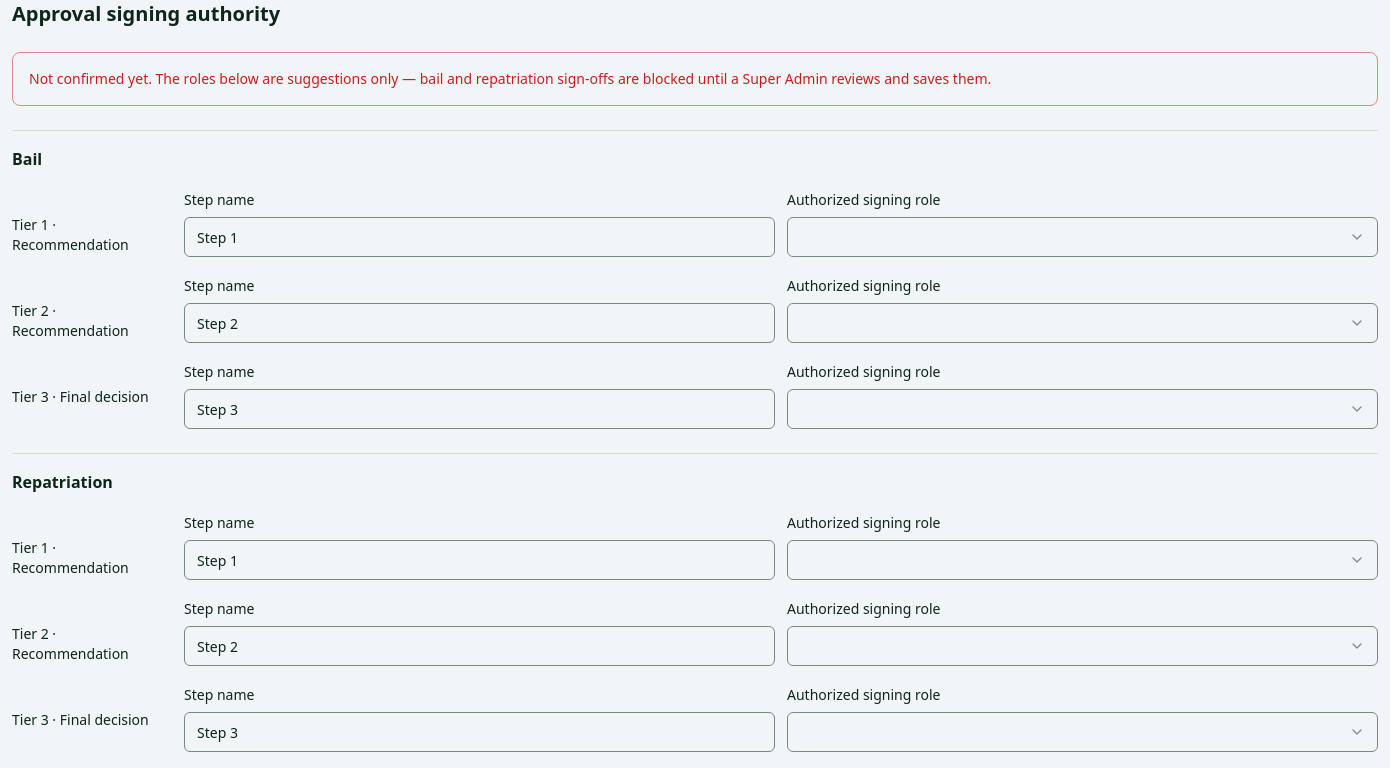
Test case: approval authority editor › blocks saving when labels are blank
The width and height of the screenshot is (1390, 768).
Expected: the dropdown named "bail tier 1 signing role" is shown, [787,217,1378,257]
Clear the 1st field labelled "Step name" at {"x": 480, "y": 237}, box [184,217,775,257]
(page scrolled)
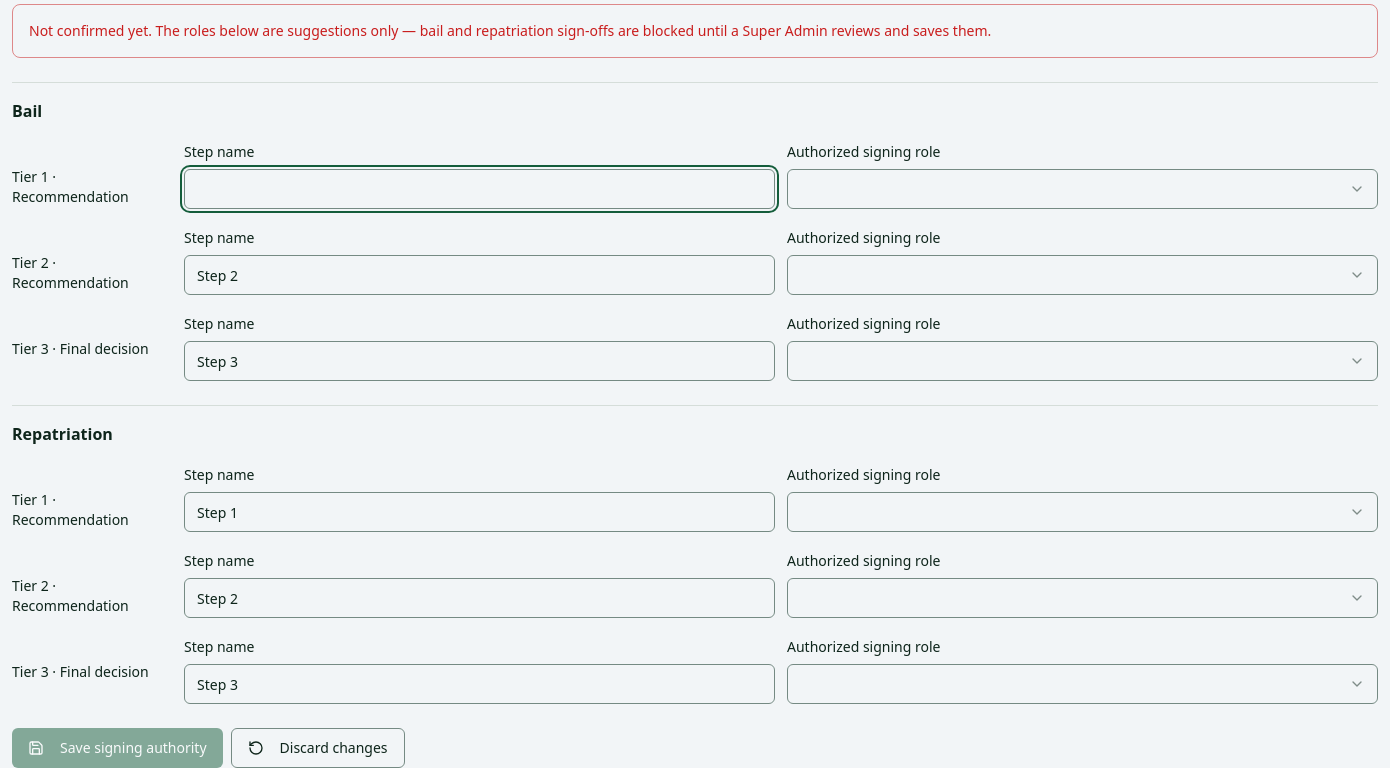
Now the button "Save signing authority" is disabled, box [12,728,223,767]
